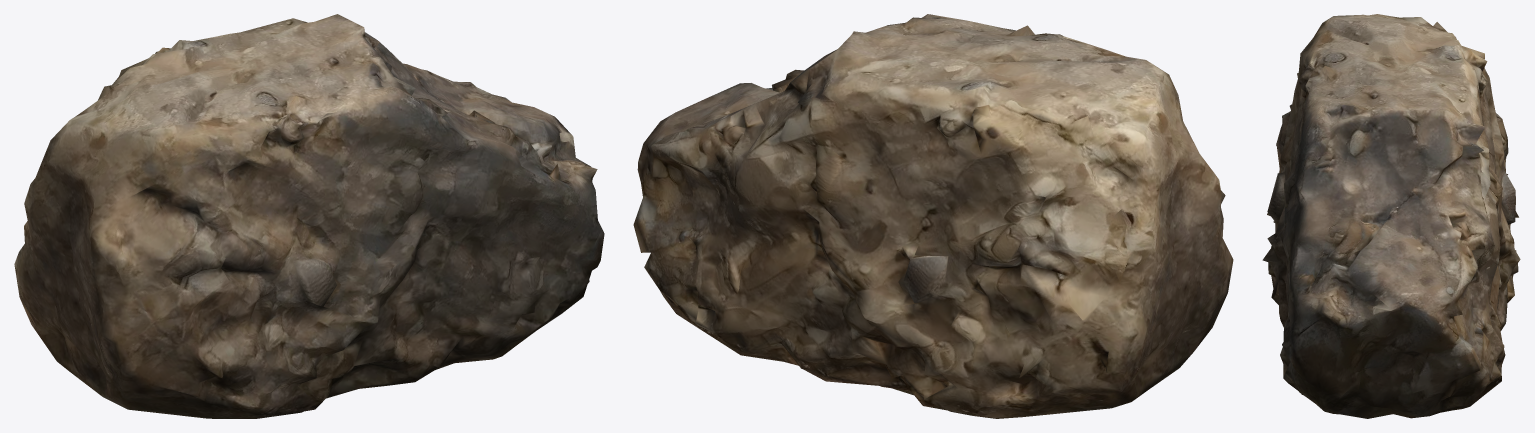
The model's file is qr_boulder2.glb.
3 renders of one model, left to right at view 1: azimuth 30°, elevation 25°; view 2: azimuth 150°, elevation 25°; view 3: azimuth 270°, elevation 25°, orthographic. The views are drawn at different scales.
Visible parts, largest first — view 1: tripo_node_8f8d3180-9980-4607-9b08-94d5fe4241c3; view 2: tripo_node_8f8d3180-9980-4607-9b08-94d5fe4241c3; view 3: tripo_node_8f8d3180-9980-4607-9b08-94d5fe4241c3.
Boxes of the visible parts, x1,y1,x2,y2 form: tripo_node_8f8d3180-9980-4607-9b08-94d5fe4241c3: (14, 14, 604, 418); tripo_node_8f8d3180-9980-4607-9b08-94d5fe4241c3: (633, 14, 1233, 418); tripo_node_8f8d3180-9980-4607-9b08-94d5fe4241c3: (1262, 14, 1520, 418).
Bounding box in the file's own units: 1 × 0.5821 × 0.5226.
1 material, 1 textured.
